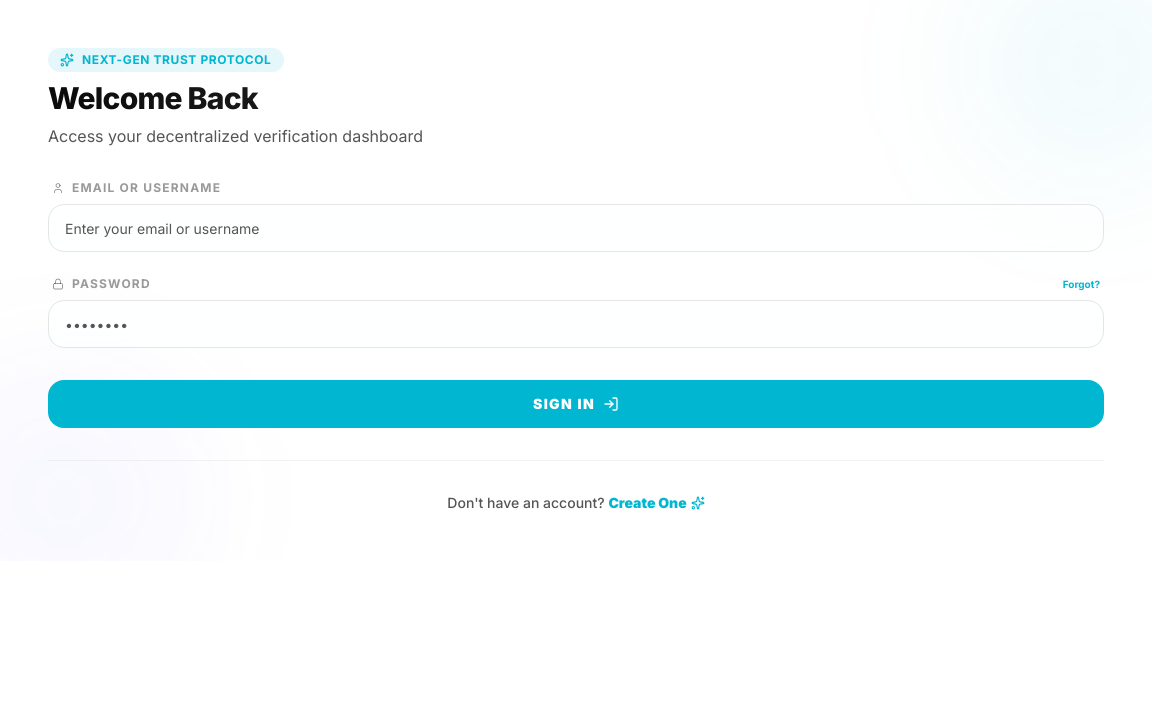
Test case: LoginForm — account pending deletion › offers to restore the account instead of showing a login failure
Step 1. Type "player@example.com" into the field with placeholder "Enter your email or username" → (576, 228), box [48, 204, 1104, 252]
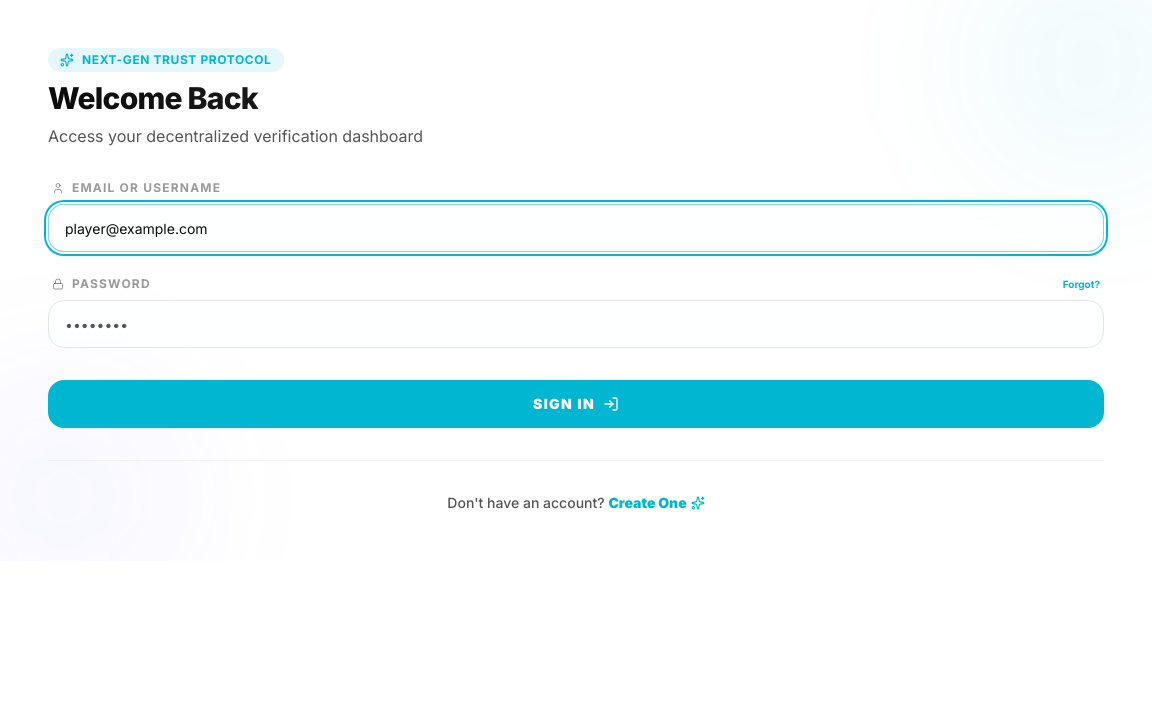
Step 2. Type "Secret123!" into the password field with placeholder "••••••••" → (576, 324), box [48, 300, 1104, 348]
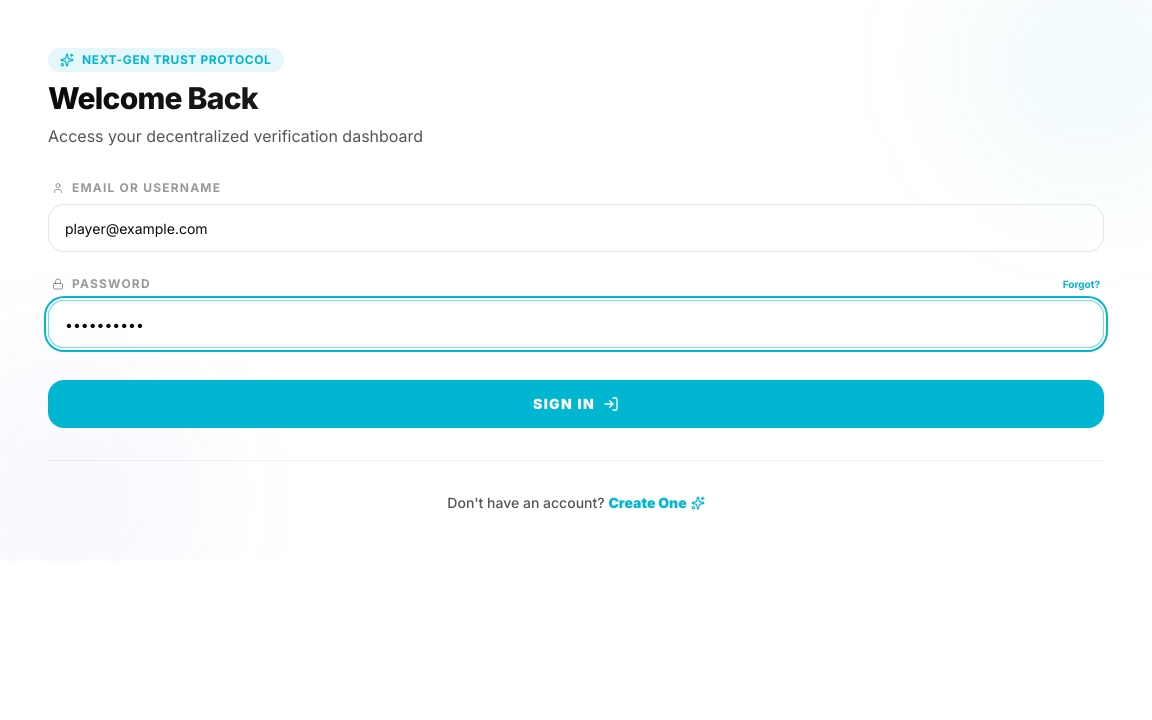
Step 3. Click the button "Sign In" → (576, 404), box [48, 380, 1104, 428]
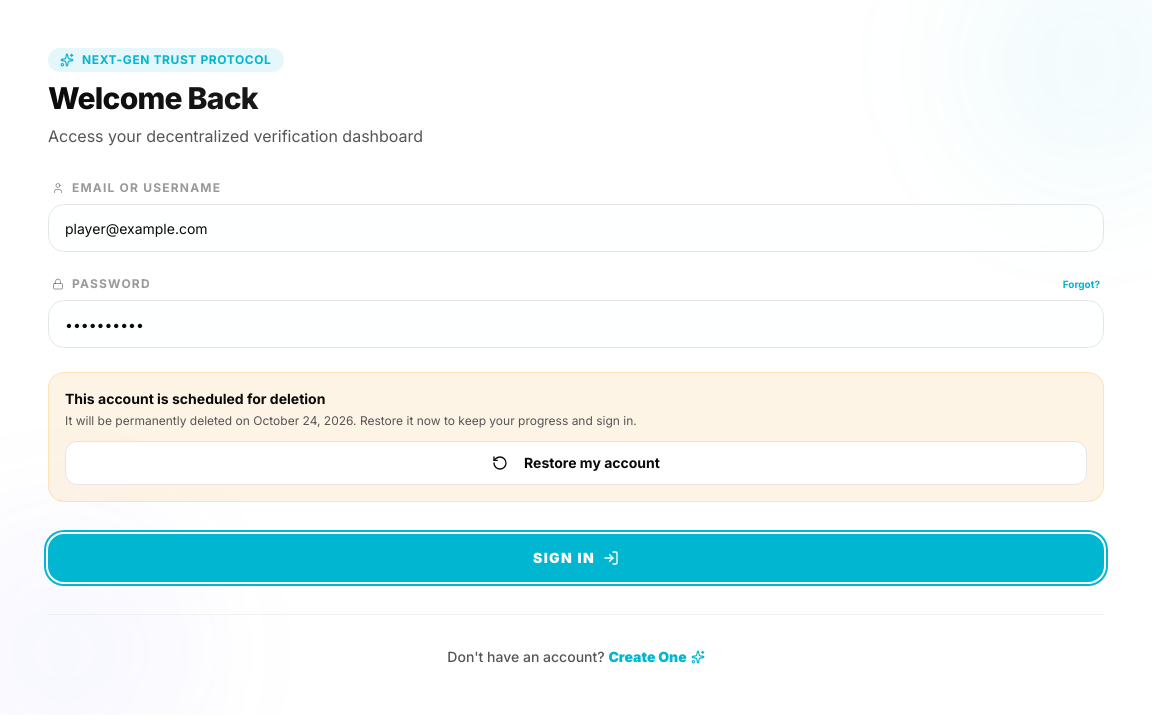
Result: the text "This account is scheduled for deletion" is shown at [65, 390, 325, 407]
Result: the button "Restore my account" is shown at [65, 441, 1087, 485]
